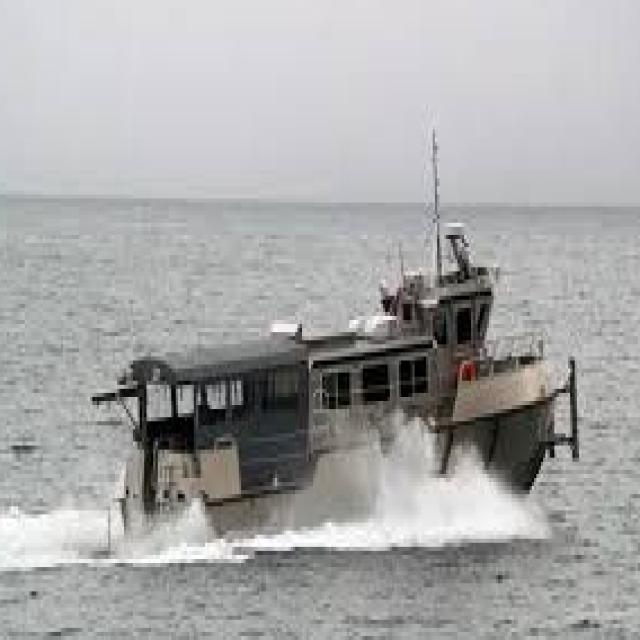houseboat: (108, 214, 583, 542)
